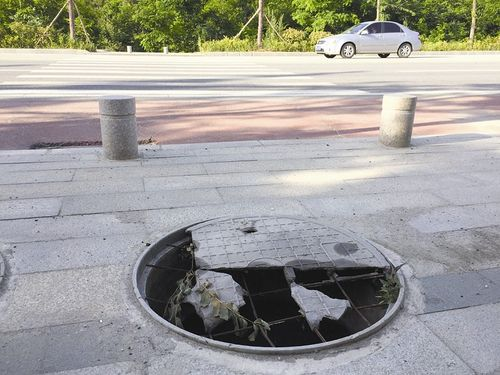broke: (121, 186, 414, 366)
